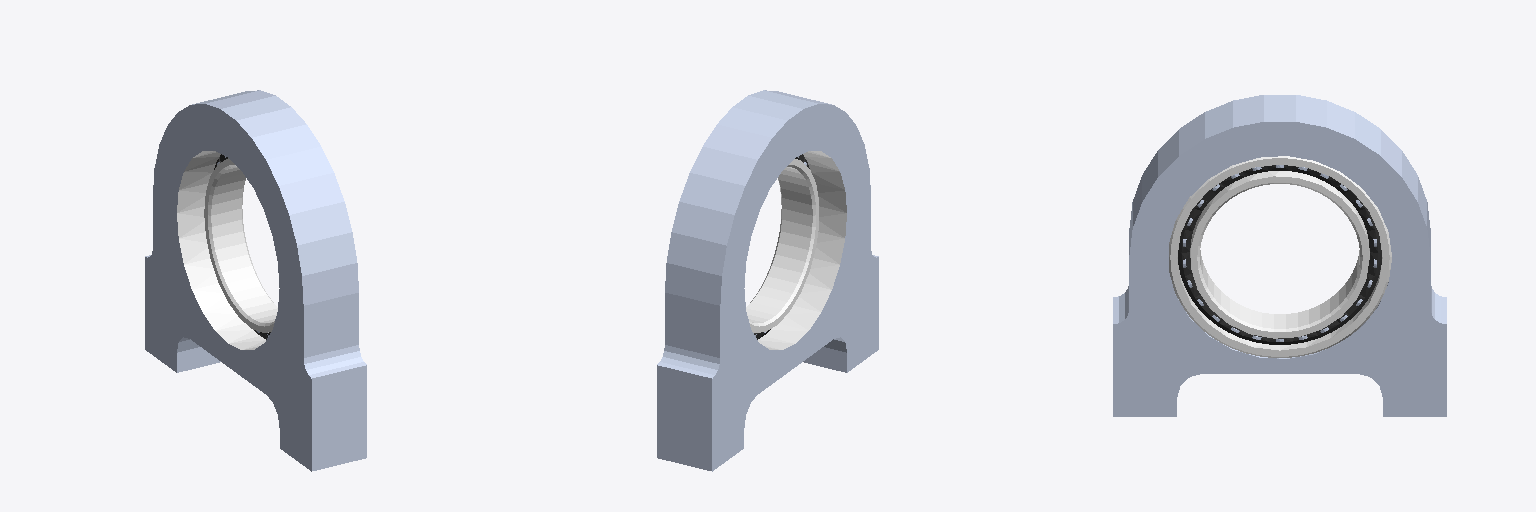
File: ROB-12541.obj
3 renders of one model, left to right at view 1: azimuth 30°, elevation 25°; view 2: azimuth 150°, elevation 25°; view 3: azimuth 270°, elevation 25°, orthographic.
Parts seen in each view (by area): view 1: mesh 2 BallsSimplified, mesh 3 InnerRace; view 2: mesh 2 BallsSimplified, mesh 3 InnerRace; view 3: mesh 2 BallsSimplified, mesh 3 InnerRace, mesh 1 RO.
Boxes of the visible parts, box(x1,y1,x2,y2) form: mesh 2 BallsSimplified: box(145, 90, 366, 471); mesh 3 InnerRace: box(177, 151, 277, 349); mesh 2 BallsSimplified: box(657, 90, 878, 471); mesh 3 InnerRace: box(746, 151, 846, 349); mesh 2 BallsSimplified: box(1113, 95, 1446, 416); mesh 3 InnerRace: box(1169, 156, 1391, 357); mesh 1 RO: box(1178, 165, 1381, 344).
Size of the model in its own units: 0.0063 by 0.0323 by 0.033.